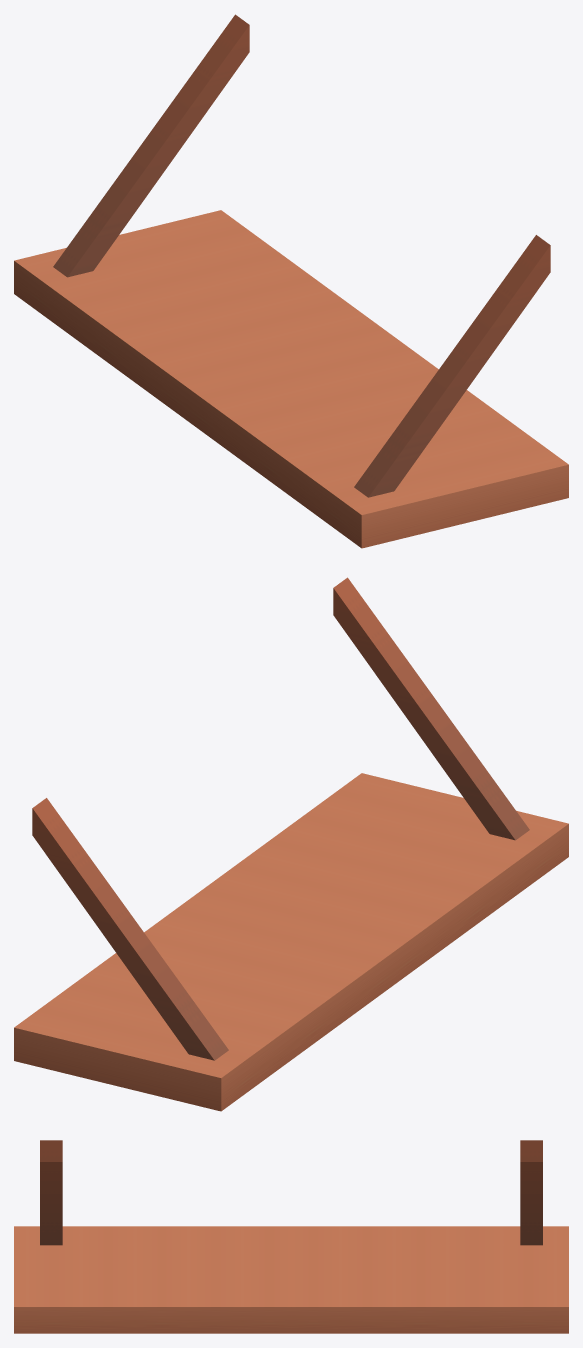
The model's file is wallShelf.fbx.
3 renders of one model, top to bottom at view 1: azimuth 30°, elevation 25°; view 2: azimuth 150°, elevation 25°; view 3: azimuth 270°, elevation 25°, orthographic. The views are drawn at different scales.
Parts seen in each view (by area): view 1: wallShelf; view 2: wallShelf; view 3: wallShelf.
Boxes of the visible parts, x1,y1,x2,y2 form: wallShelf: [14, 14, 568, 548]; wallShelf: [14, 577, 568, 1111]; wallShelf: [14, 1140, 568, 1333].
Bounding box in the file's own units: 0.2616 × 0.7605 × 0.2913.
